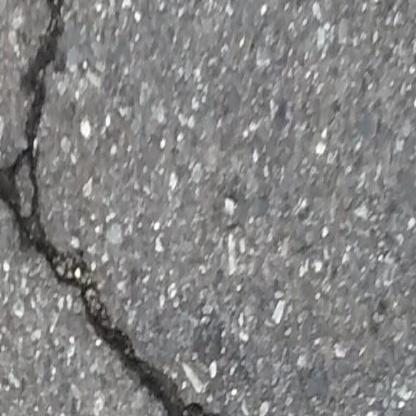Cracks: (0, 0, 235, 416)
